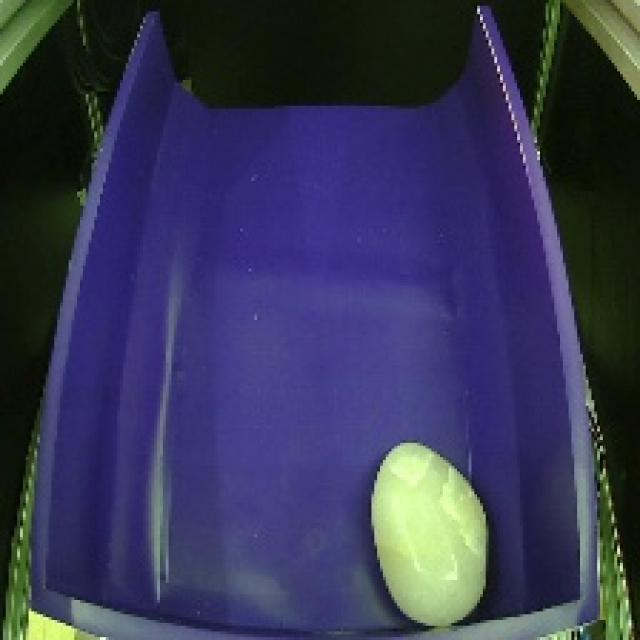cobbles: (360, 434, 502, 637)
